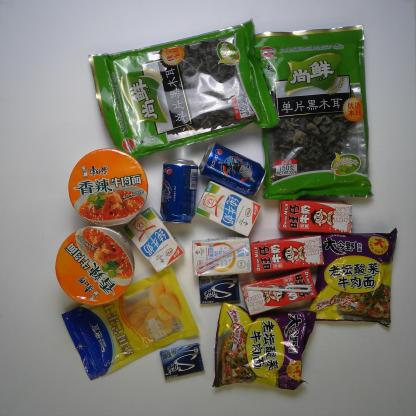Dried Food: (87, 16, 282, 160), (255, 23, 376, 202)
Dried Fruit: (60, 265, 202, 382)
Drink: (198, 142, 267, 197), (160, 158, 199, 224)
Gum: (159, 342, 205, 381), (198, 274, 241, 305)
Instant Noodles: (210, 302, 318, 390), (308, 226, 398, 328), (66, 148, 150, 228), (54, 225, 136, 306)
Milk: (123, 206, 186, 273), (238, 267, 318, 317), (194, 181, 262, 237), (250, 234, 324, 274), (277, 199, 353, 235), (191, 236, 253, 276)
